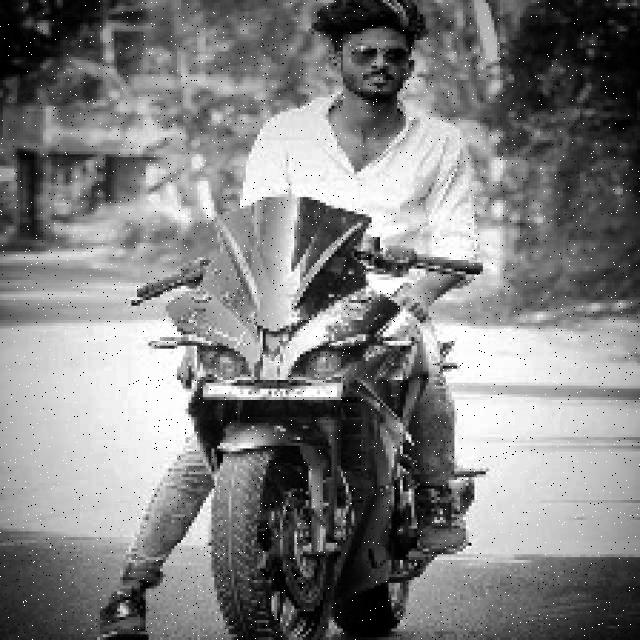Bike: (159, 221, 459, 639)
